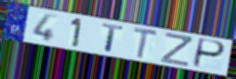1: (68, 17, 83, 49)
4: (31, 12, 57, 44)
P: (191, 37, 227, 70)
T: (132, 26, 160, 61), (100, 22, 126, 54)
Z: (159, 31, 194, 68)
